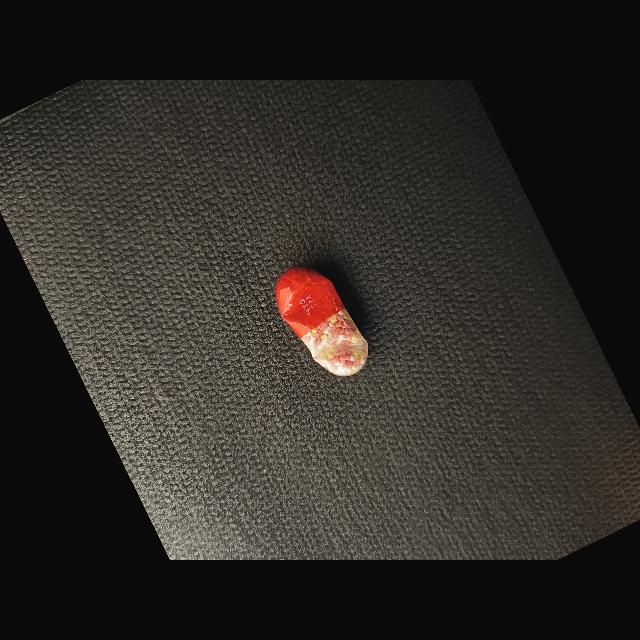Defective Capsule: (276, 266, 368, 376)
